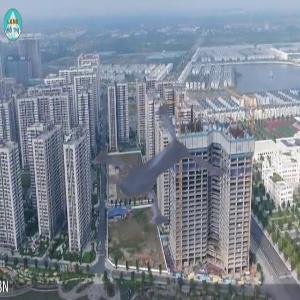drone: (57, 81, 241, 265)
